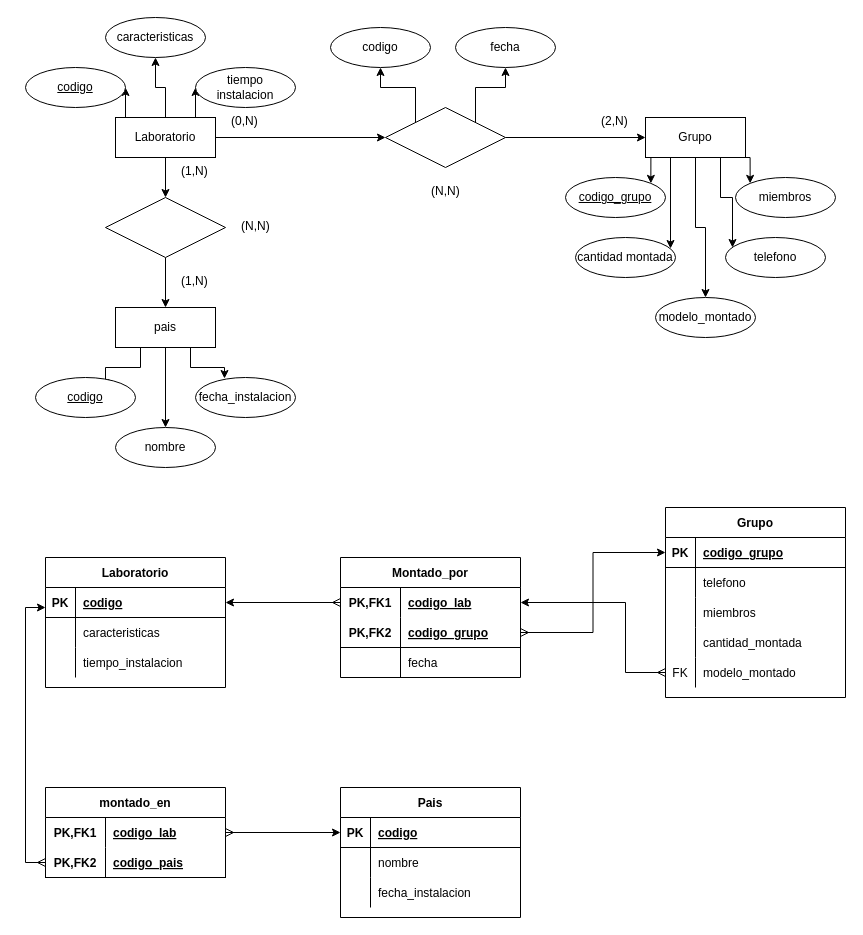
This 863x935 diagram has some shape labels left out. The centre of each missing label's shape, as x and y in pixels:
"montado en" belongs at (165,227).
"Montado por" belongs at (445,137).
